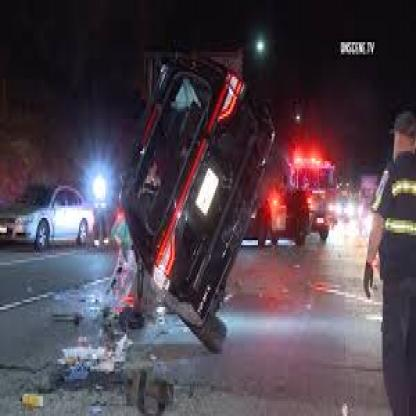accident: (98, 47, 300, 367)
